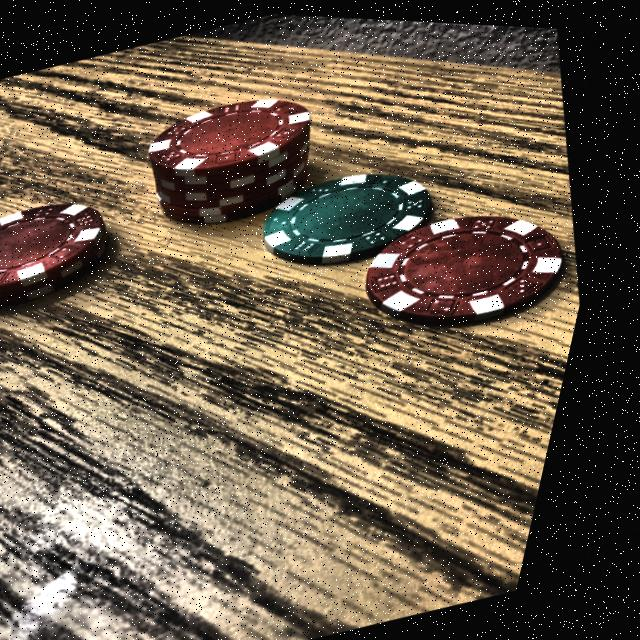Chip: (117, 55, 362, 264), (343, 173, 604, 359), (247, 142, 463, 288), (0, 161, 155, 341)
